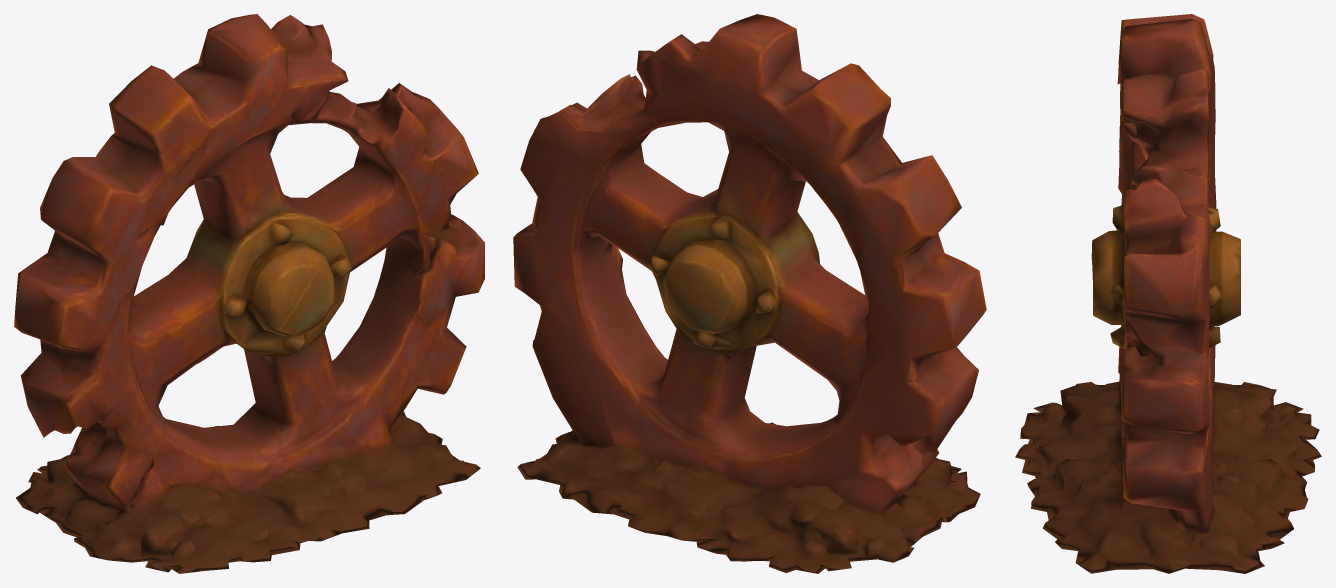
The model's file is gear_ruin.glb.
The picture shows the model from 3 angles, left to right: view 1: azimuth 30°, elevation 25°; view 2: azimuth 150°, elevation 25°; view 3: azimuth 270°, elevation 25°; orthographic projection.
Parts seen in each view (by area): view 1: gear_ruin; view 2: gear_ruin; view 3: gear_ruin.
Boxes of the visible parts, x1,y1,x2,y2 form: gear_ruin: [14, 14, 484, 573]; gear_ruin: [513, 14, 986, 573]; gear_ruin: [1015, 14, 1321, 573].
Bounding box in the file's own units: 4 × 4 × 2.42.
Materials: 1 (1 with a texture image).
